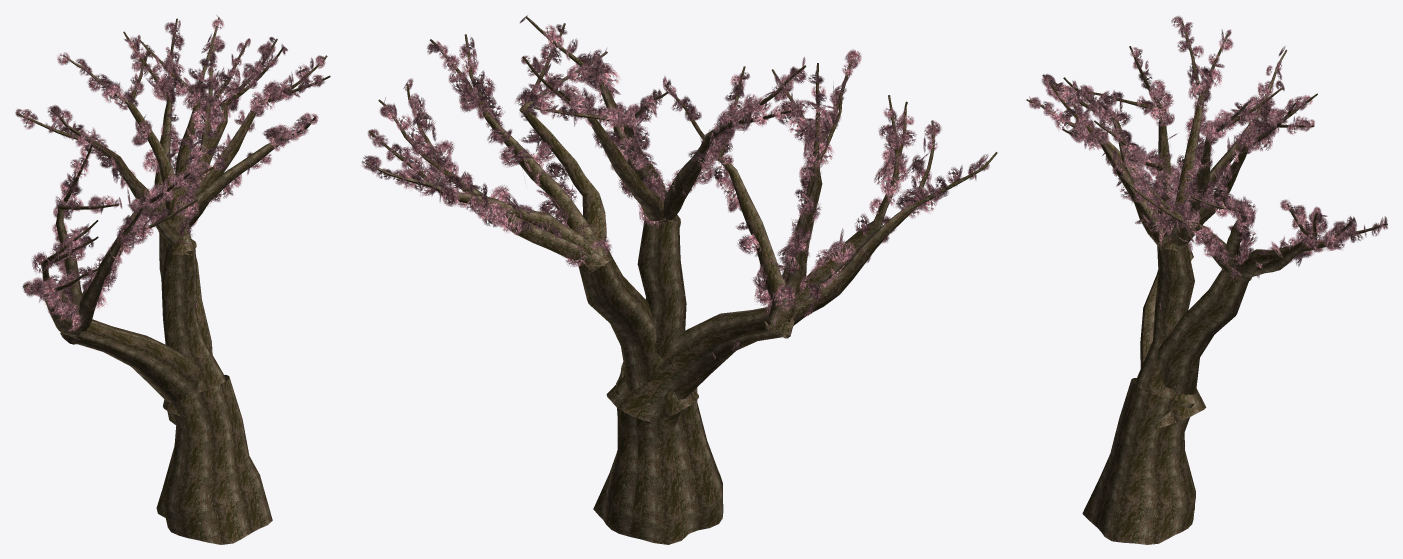
Rendered from blossom_4x_1.glb.
The picture shows the model from 3 angles, left to right: view 1: azimuth 30°, elevation 25°; view 2: azimuth 150°, elevation 25°; view 3: azimuth 270°, elevation 25°; orthographic projection. The views are drawn at different scales.
Parts seen in each view (by area): view 1: blossom; view 2: blossom; view 3: blossom.
Boxes of the visible parts, x1,y1,x2,y2 form: blossom: [15, 15, 330, 544]; blossom: [361, 15, 997, 544]; blossom: [1026, 16, 1387, 544].
Size of the model in its own units: 60.38 by 66.45 by 48.24.
Materials: 2 (2 with a texture image).
